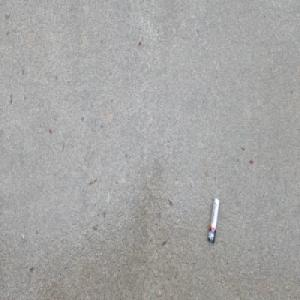Battery: (206, 194, 220, 243)
